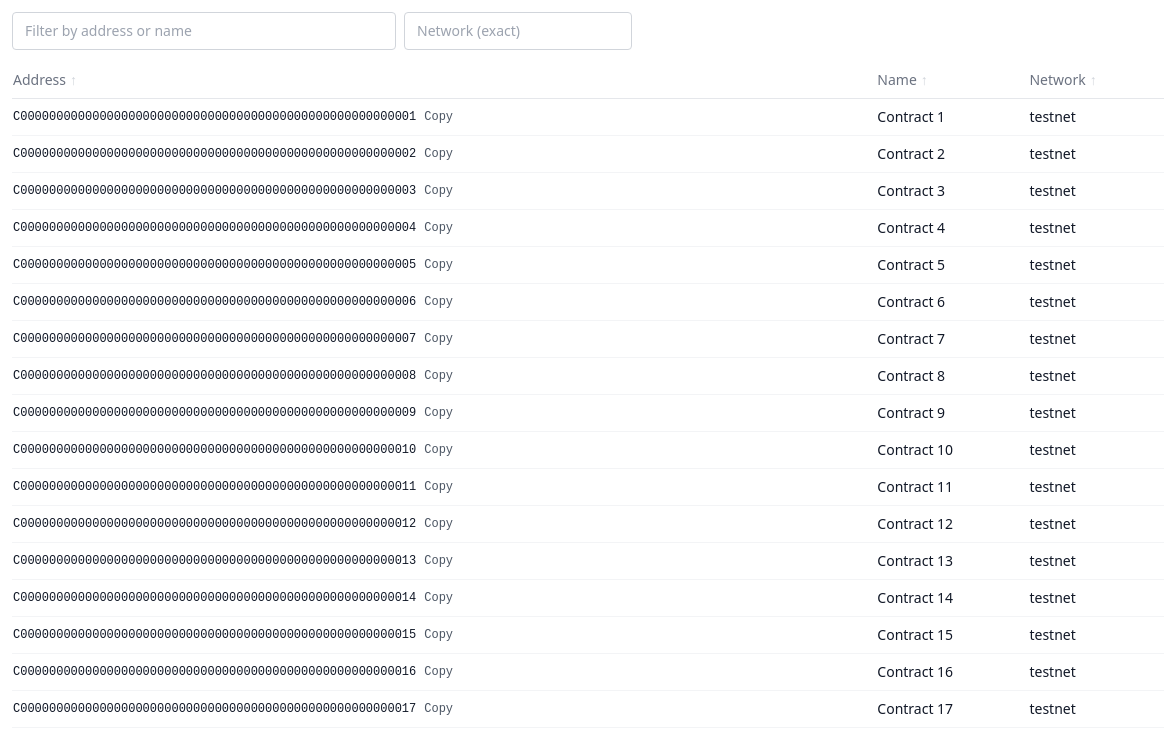
Test: ContractsTable › applies the network filter server-side
Type "mainnet" into the field named "filter by network" at [518, 31], box [404, 12, 632, 50]
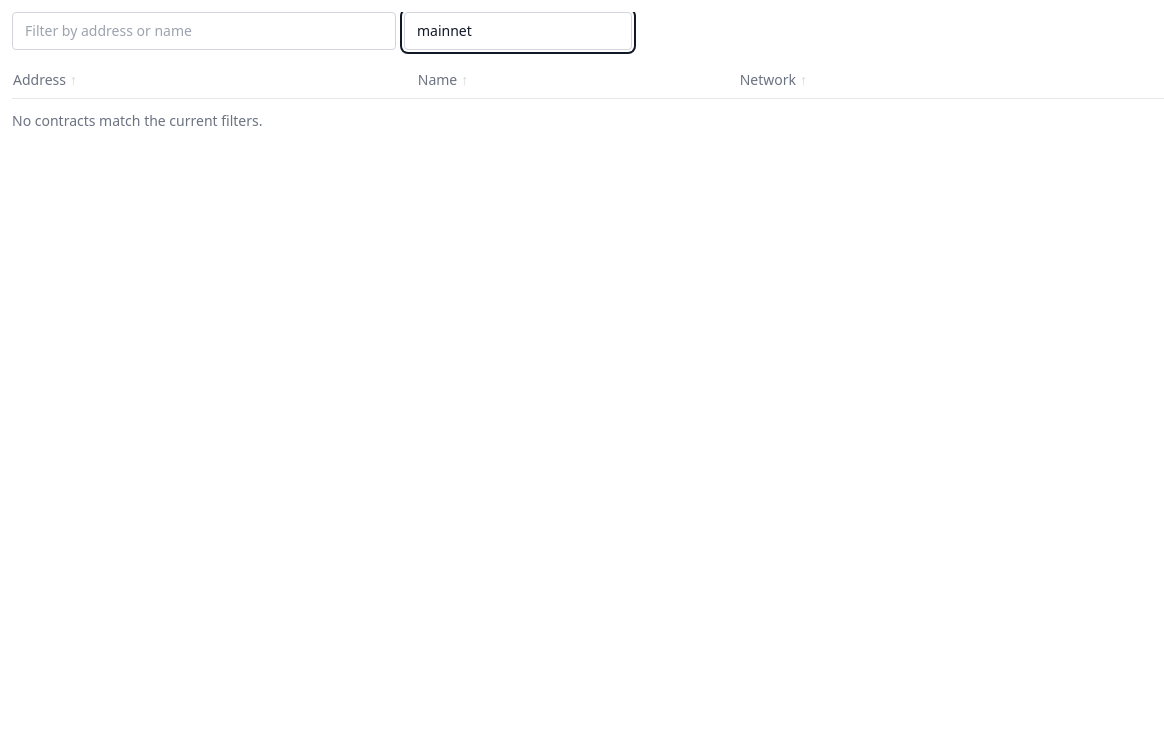
Result: the text "No contracts match the current filters." is shown at [12, 111, 262, 130]
